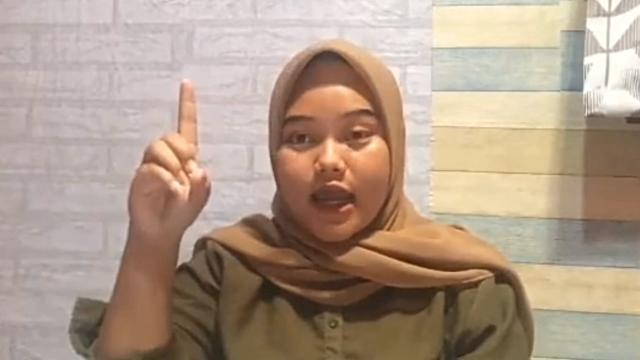D: (126, 78, 212, 228)
